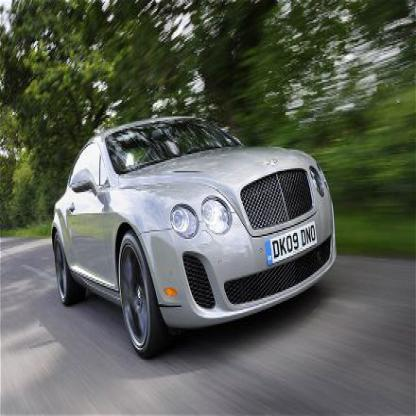Vehicle: (51, 114, 339, 362)
